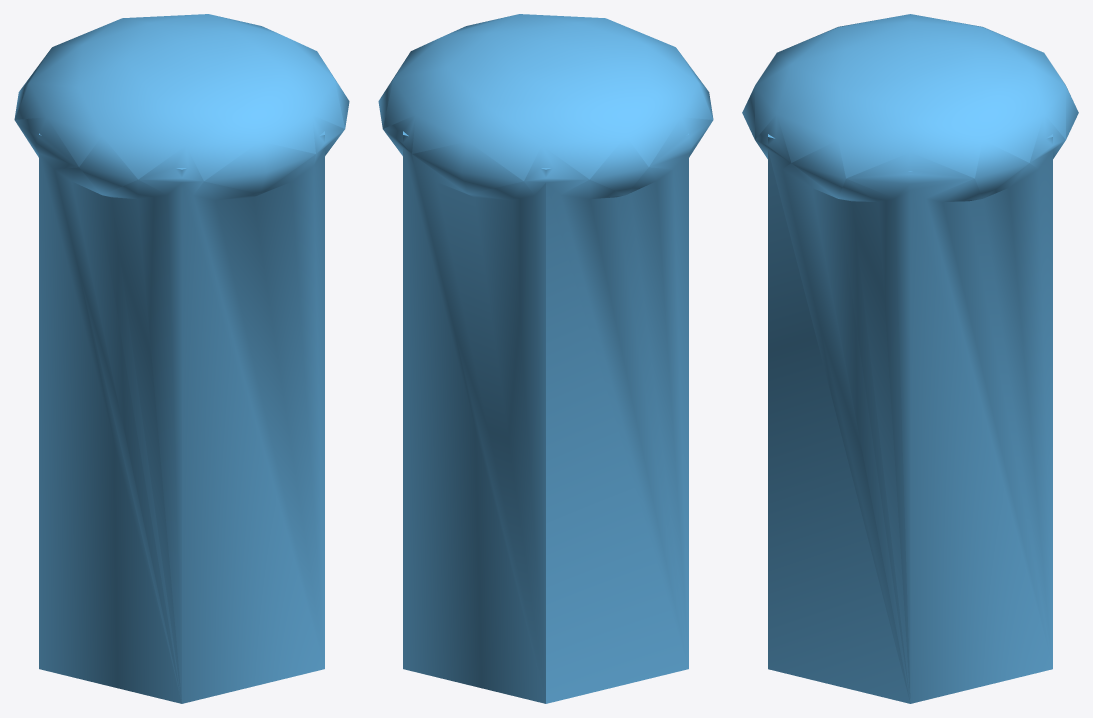
3 views of the same model, side by side, from view 1: azimuth 30°, elevation 25°; view 2: azimuth 150°, elevation 25°; view 3: azimuth 270°, elevation 25° (orthographic).
Bounding box in the file's own units: 0.86 × 1.66 × 0.86.
